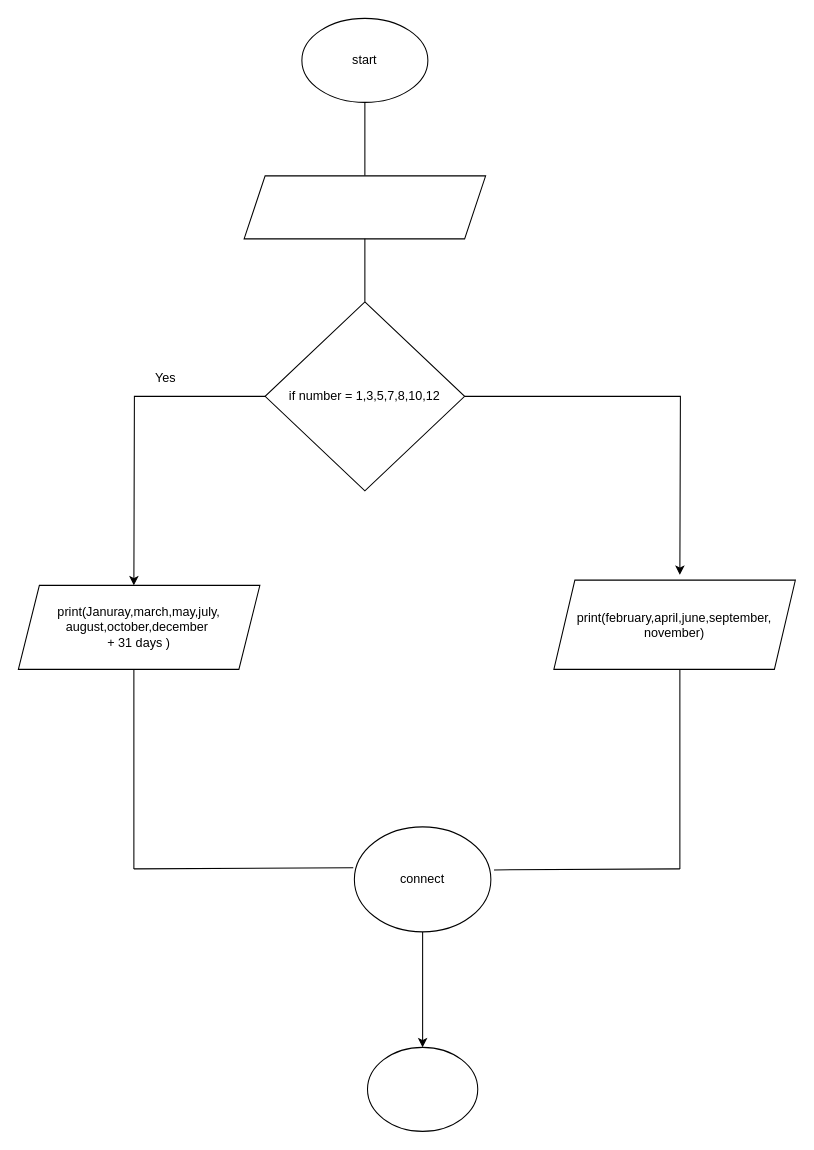
This 814x1150 diagram has some shape labels left out. Each missing label, with the centre of its shape:
"input(enter any number from 1-12)" goes at point (364, 207).
"Stop" goes at point (422, 1088).
